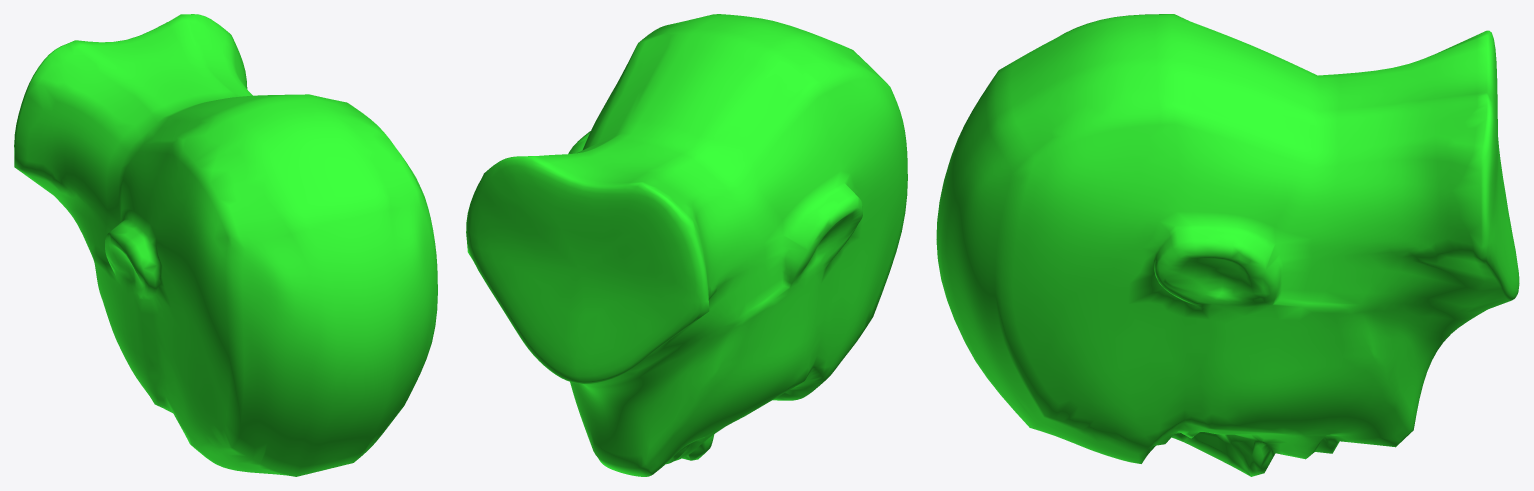
File: Malehead.obj
3 views of the same model, side by side, from view 1: azimuth 30°, elevation 25°; view 2: azimuth 150°, elevation 25°; view 3: azimuth 270°, elevation 25° (orthographic). The views are drawn at different scales.
Visible parts, largest first — view 1: Malehead; view 2: Malehead; view 3: Malehead.
Boxes of the visible parts, left/top/right/bottom form: Malehead: left=14, top=14, right=437, bottom=476; Malehead: left=466, top=14, right=907, bottom=476; Malehead: left=936, top=14, right=1519, bottom=476.
Size of the model in its own units: 0.6074 by 0.8363 by 1.
